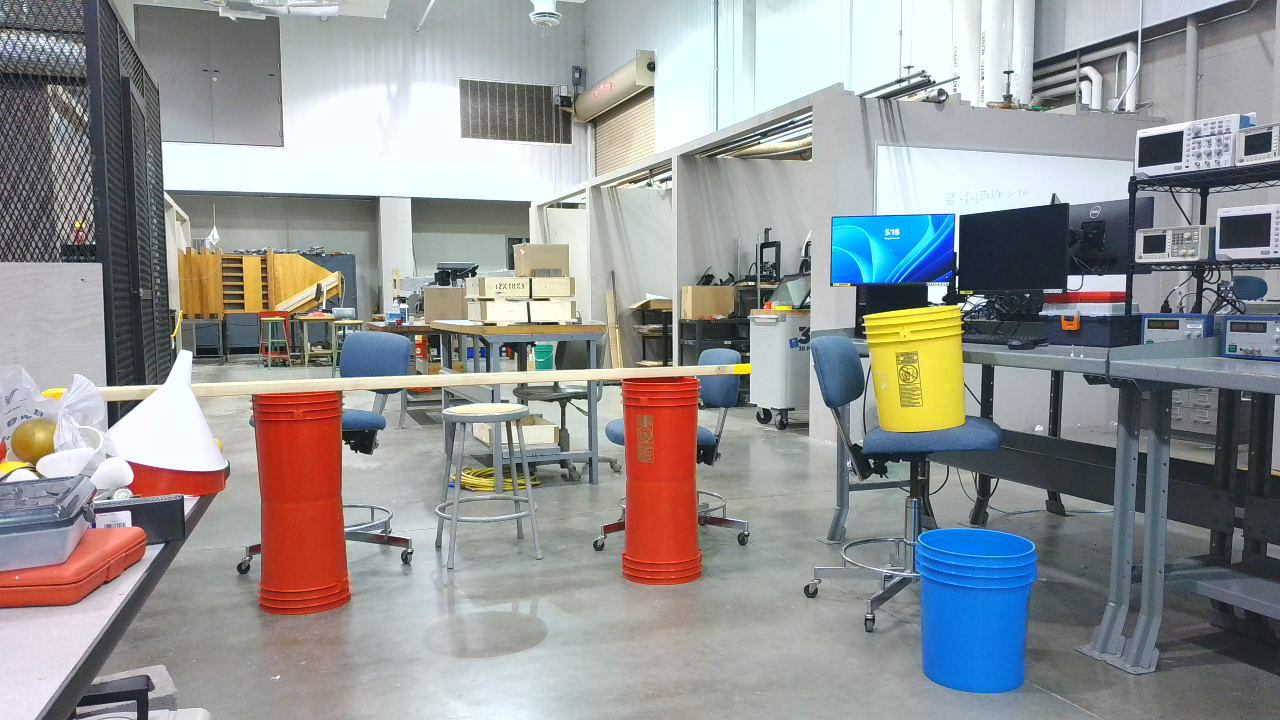blue_bucket: (915, 527, 1047, 704)
red_bucket_arch: (246, 373, 713, 625)
yellow_bucket: (862, 304, 976, 441)
